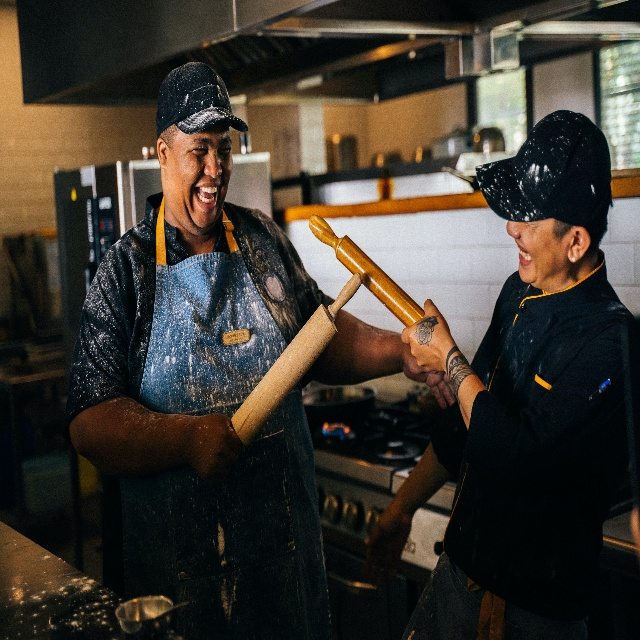Sin_guantes: (362, 497, 411, 588), (189, 411, 246, 483), (400, 338, 456, 408), (401, 299, 450, 371)
